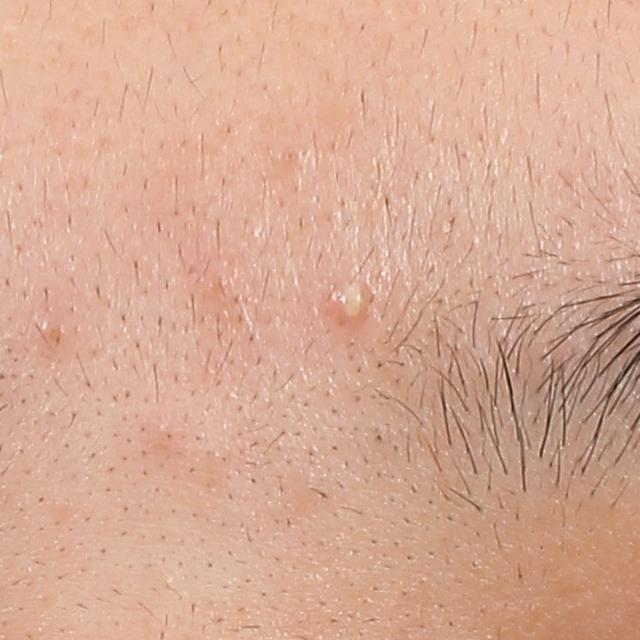pustule: (332, 279, 373, 327)
